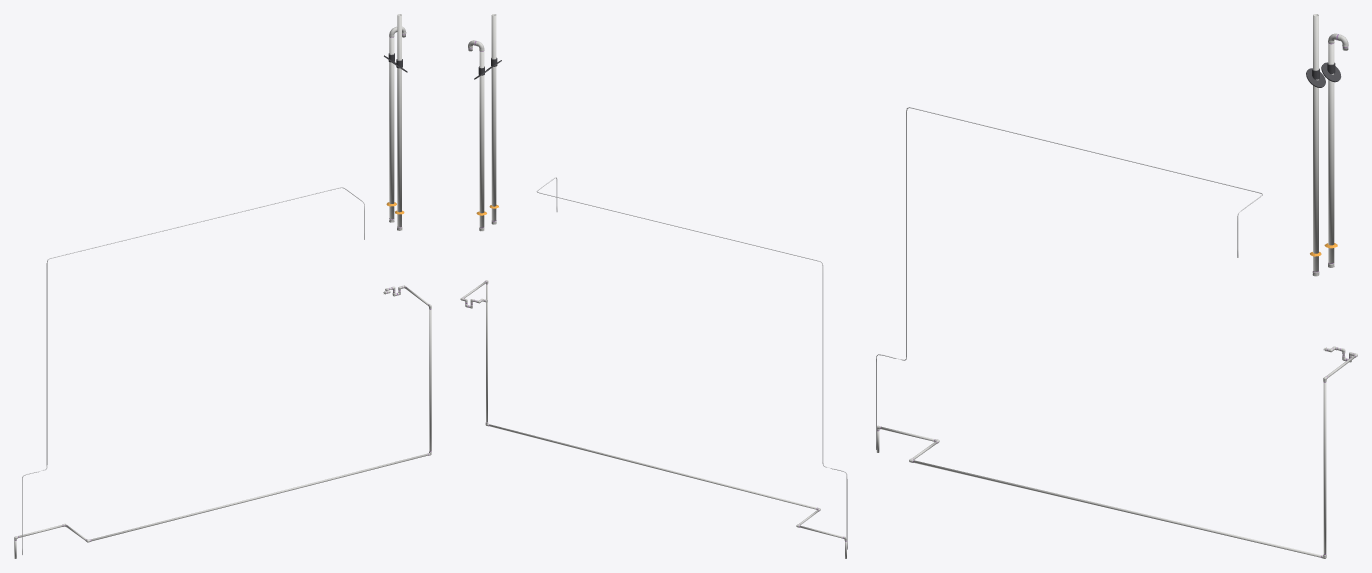
Rendered from pipes_hvac__hvac-split_furnace_92+split_furnace_cond96+split_furnace_98.glb.
The picture shows the model from 3 angles, left to right: view 1: azimuth 30°, elevation 25°; view 2: azimuth 150°, elevation 25°; view 3: azimuth 330°, elevation 25°; orthographic projection. The views are drawn at different scales.
Visible parts, largest first — view 1: pipe_hvac_condensate_primary_90, vent_hvac_cond96_intake, pipe_hvac_condensate_pump, vent_hvac_cond96_exhaust; view 2: pipe_hvac_condensate_primary_90, vent_hvac_cond96_exhaust, vent_hvac_cond96_intake, pipe_hvac_condensate_pump; view 3: pipe_hvac_condensate_primary_90, vent_hvac_cond96_intake, vent_hvac_cond96_exhaust, pipe_hvac_condensate_pump.
Boxes of the visible parts, box(x1,y1,x2,y2) form: pipe_hvac_condensate_primary_90: box(14, 285, 431, 558); vent_hvac_cond96_intake: box(389, 26, 406, 218); pipe_hvac_condensate_pump: box(22, 187, 364, 554); vent_hvac_cond96_exhaust: box(397, 14, 401, 227); pipe_hvac_condensate_primary_90: box(460, 280, 847, 558); vent_hvac_cond96_exhaust: box(491, 14, 496, 220); vent_hvac_cond96_intake: box(468, 40, 484, 227); pipe_hvac_condensate_pump: box(536, 177, 847, 549); pipe_hvac_condensate_primary_90: box(876, 346, 1357, 558); vent_hvac_cond96_intake: box(1328, 33, 1348, 263); vent_hvac_cond96_exhaust: box(1313, 14, 1318, 271); pipe_hvac_condensate_pump: box(876, 107, 1262, 449).
Bounding box in the file's own units: 5.72 × 6.37 × 0.755.
